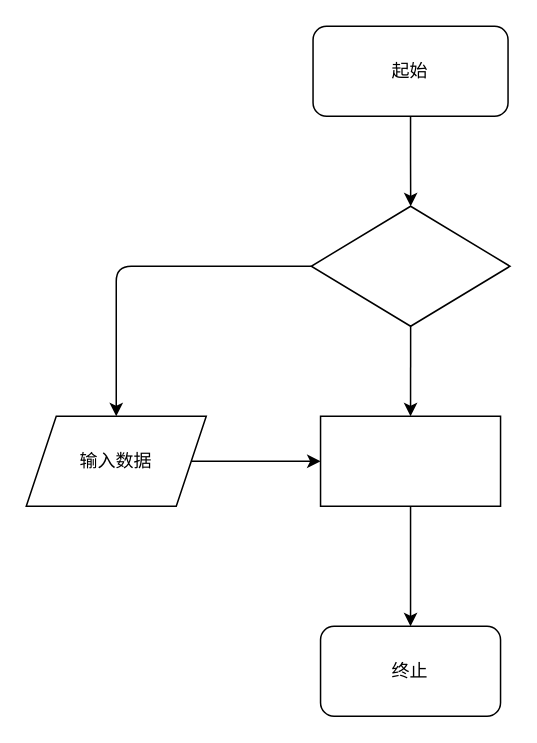
This 537x743 diagram has some shape labels left out. Here are the shapes that lost their labels. From the top down, the centre of each, then its label:
the point at 410,265: 判断
the point at 410,460: 执行
